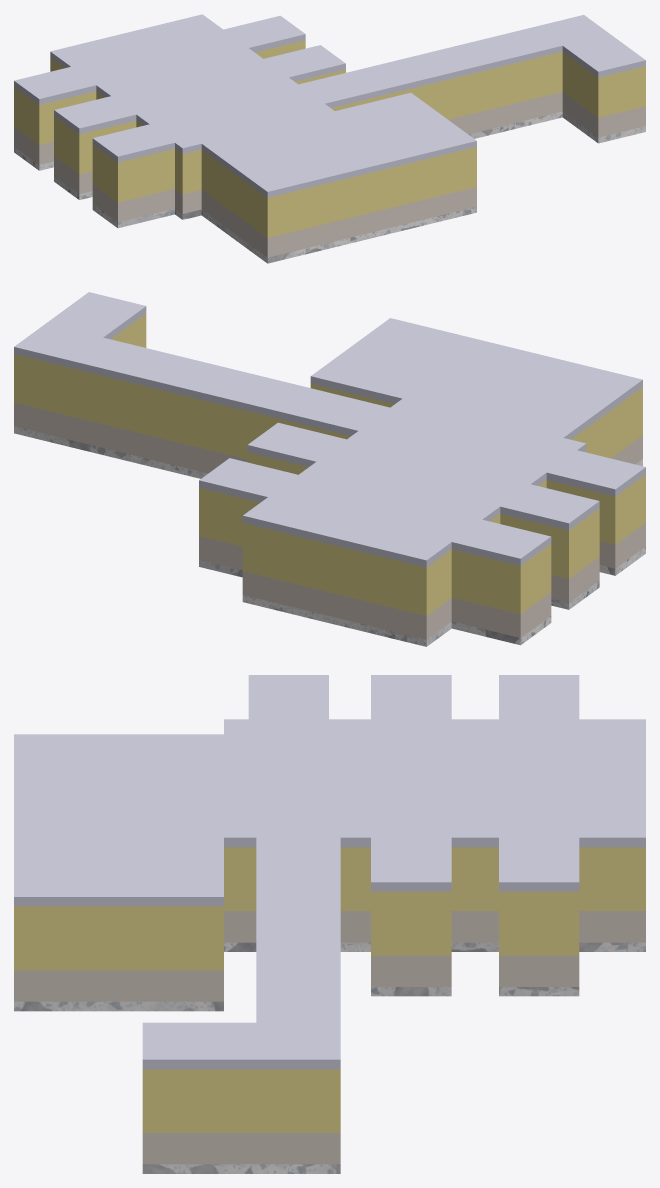
The model's file is NEWPrisonLevelDesign_Blockout_01.fbx.
3 renders of one model, top to bottom at view 1: azimuth 30°, elevation 25°; view 2: azimuth 150°, elevation 25°; view 3: azimuth 270°, elevation 25°, orthographic. The views are drawn at different scales.
Visible parts, largest first — view 1: Ceiling_1, Walls_01, Floors_01; view 2: Ceiling_1, Walls_01, Floors_01; view 3: Ceiling_1, Walls_01, Floors_01.
Part boxes in pixels (bbox=[...]): Ceiling_1: bbox=[14, 14, 645, 197]; Walls_01: bbox=[14, 40, 645, 257]; Floors_01: bbox=[14, 111, 645, 263]; Ceiling_1: bbox=[14, 292, 645, 567]; Walls_01: bbox=[14, 313, 645, 639]; Floors_01: bbox=[14, 426, 645, 646]; Ceiling_1: bbox=[14, 675, 645, 1069]; Walls_01: bbox=[14, 847, 645, 1164]; Floors_01: bbox=[14, 942, 645, 1173].
Bounding box in the file's own units: 2600 × 360 × 1805.
11 materials, 2 textured.
